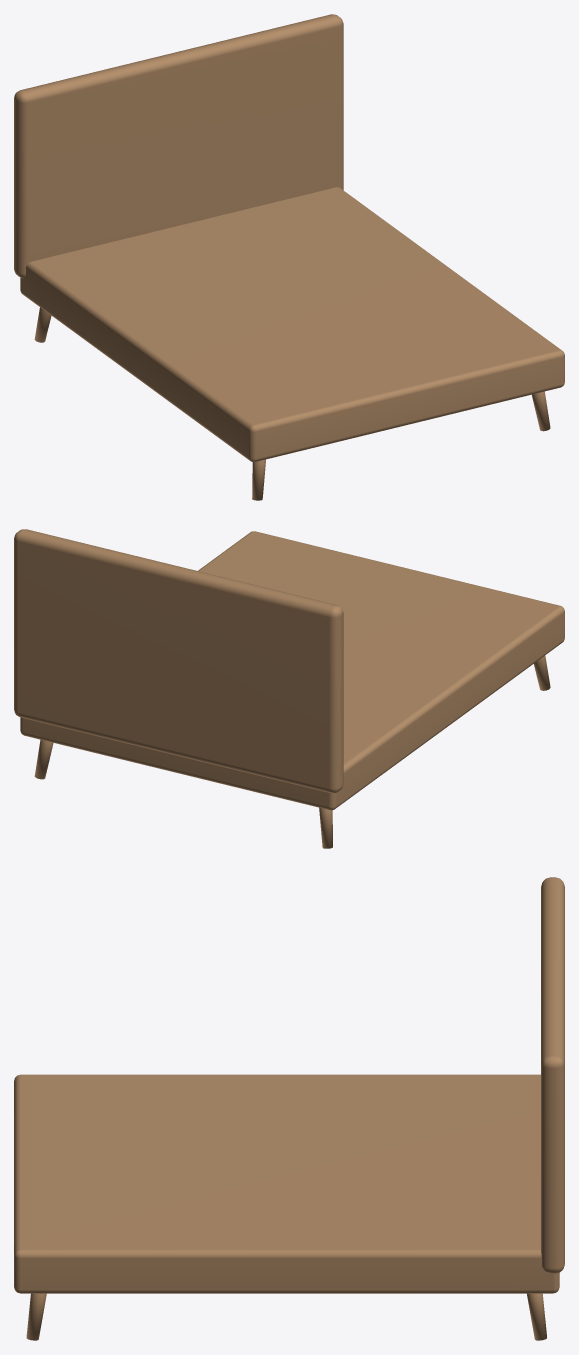
The model's file is atelier-bed-frame.glb.
3 views of the same model, one above another, from view 1: azimuth 30°, elevation 25°; view 2: azimuth 150°, elevation 25°; view 3: azimuth 270°, elevation 25° (orthographic). The views are drawn at different scales.
Visible parts, largest first — view 1: legs.038; view 2: legs.038; view 3: legs.038.
Part boxes in pixels (x1,y1,x2,y2): legs.038: [14, 14, 564, 500]; legs.038: [14, 529, 564, 848]; legs.038: [14, 877, 564, 1340].
Bounding box in the file's own units: 1.65 × 1.2 × 2.07.
